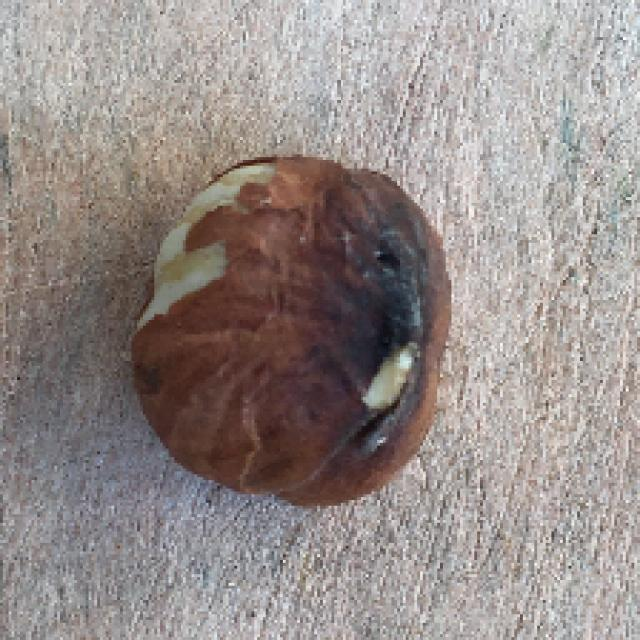hazelnut: (135, 137, 450, 515)
